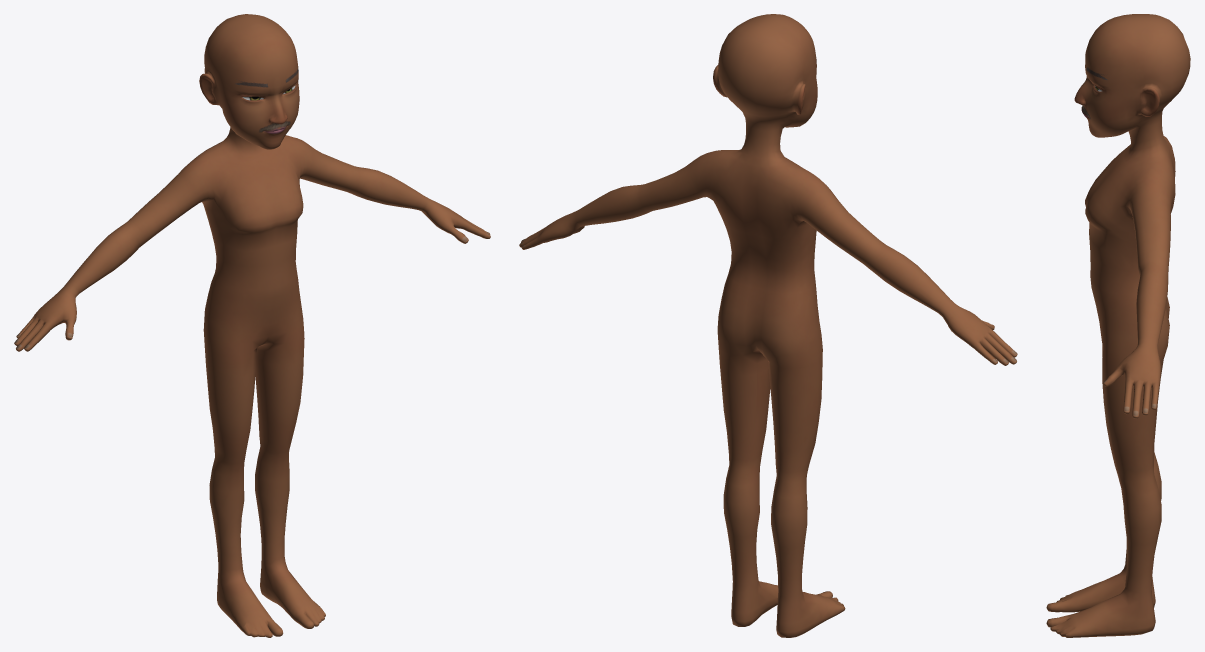
The model's file is frame_0100.glb.
3 views of the same model, side by side, from view 1: azimuth 30°, elevation 25°; view 2: azimuth 150°, elevation 25°; view 3: azimuth 270°, elevation 25° (orthographic). The views are drawn at different scales.
Parts seen in each view (by area): view 1: frame_0100_head_geo; view 2: frame_0100_head_geo; view 3: frame_0100_head_geo.
Boxes of the visible parts, x1,y1,x2,y2 form: frame_0100_head_geo: [14, 14, 490, 637]; frame_0100_head_geo: [519, 14, 1017, 637]; frame_0100_head_geo: [1046, 14, 1190, 637].
Size of the model in its own units: 1.28 by 1.5 by 0.3253.
3 materials, 3 textured.
